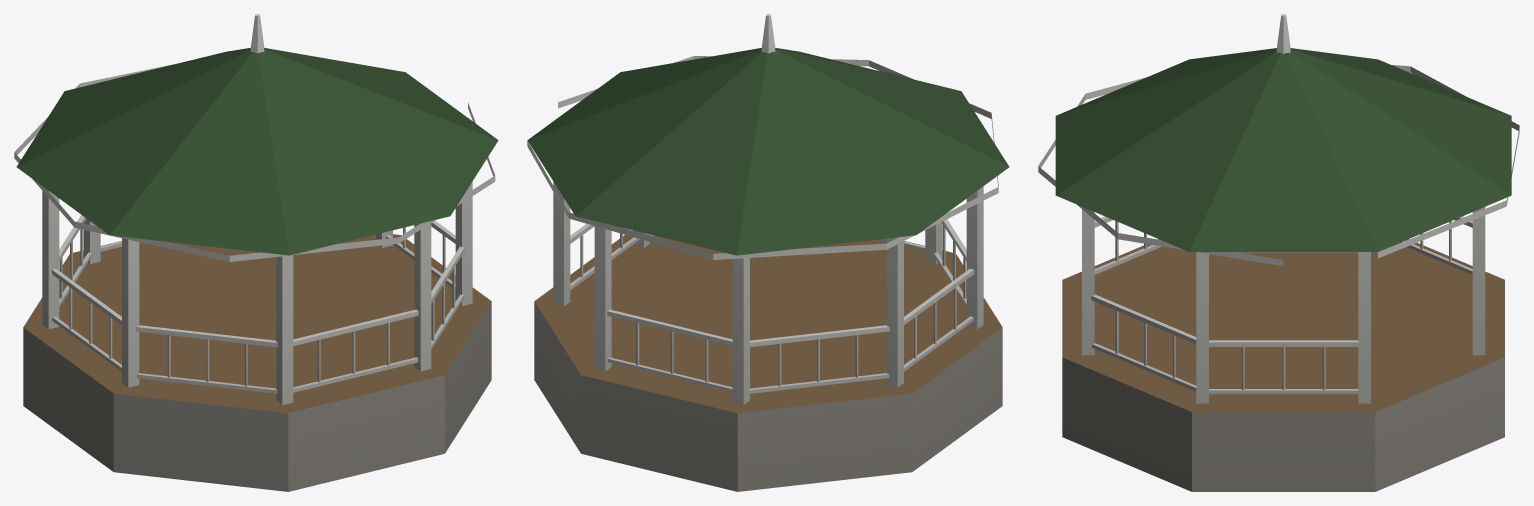
The model's file is gazebo.glb.
The picture shows the model from 3 angles, left to right: view 1: azimuth 30°, elevation 25°; view 2: azimuth 150°, elevation 25°; view 3: azimuth 270°, elevation 25°; orthographic projection.
Parts seen in each view (by area): view 1: gazebo_lod0; view 2: gazebo_lod0; view 3: gazebo_lod0.
Part boxes in pixels (bbox=[...]): gazebo_lod0: bbox=[14, 14, 498, 491]; gazebo_lod0: bbox=[527, 14, 1009, 491]; gazebo_lod0: bbox=[1038, 14, 1519, 491].
Size of what is drawn, in the model's own units: 6.93 by 6 by 6.83.
